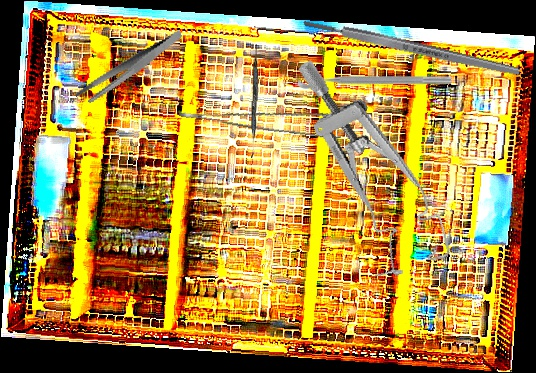Dressing Forceps: (66, 29, 193, 107)
Fixation Ring: (298, 63, 451, 89)
Scalpel Handle: (300, 15, 523, 80)
Spatula Surgical: (250, 43, 259, 159)
Speculum: (295, 37, 454, 288)
Tissue Forceps: (178, 84, 346, 148)
